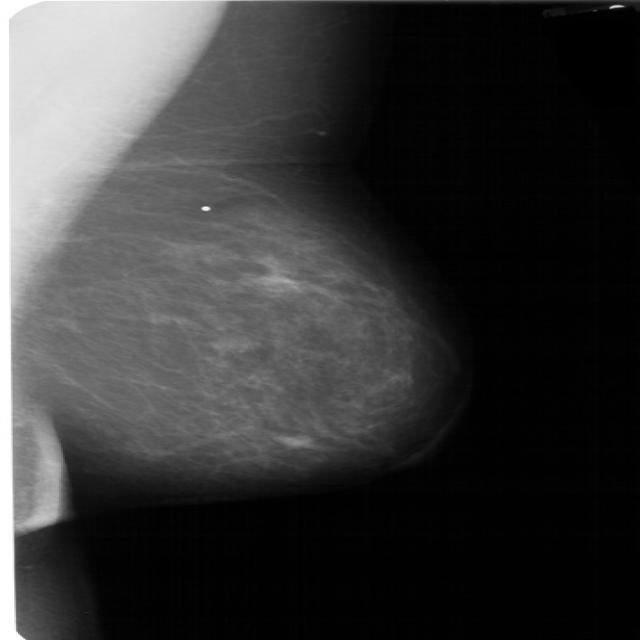tumour: (207, 335, 259, 352)
